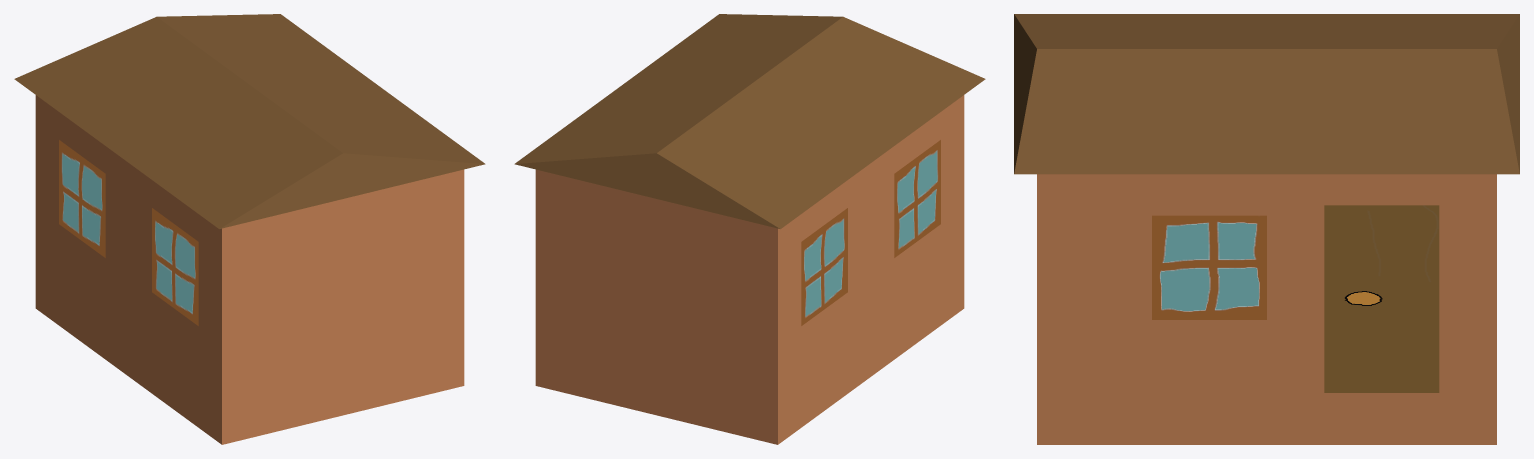
The model's file is house.glb.
3 views of the same model, side by side, from view 1: azimuth 30°, elevation 25°; view 2: azimuth 150°, elevation 25°; view 3: azimuth 270°, elevation 25° (orthographic). The views are drawn at different scales.
Visible parts, largest first — view 1: Cube; view 2: Cube; view 3: Cube.
Boxes of the visible parts, x1,y1,x2,y2 form: Cube: (14,14,485,444); Cube: (514,14,985,444); Cube: (1014,14,1519,444).
Bounding box in the file's own units: 3.3 × 3.1 × 4.4.
4 materials, 2 textured.
